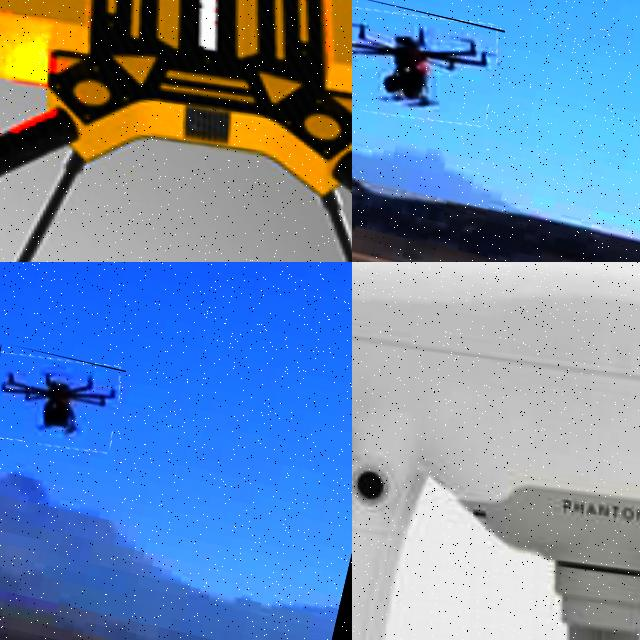0: (352, 0, 504, 137), (0, 342, 125, 459)
drone: (352, 262, 640, 640), (0, 0, 352, 262)
